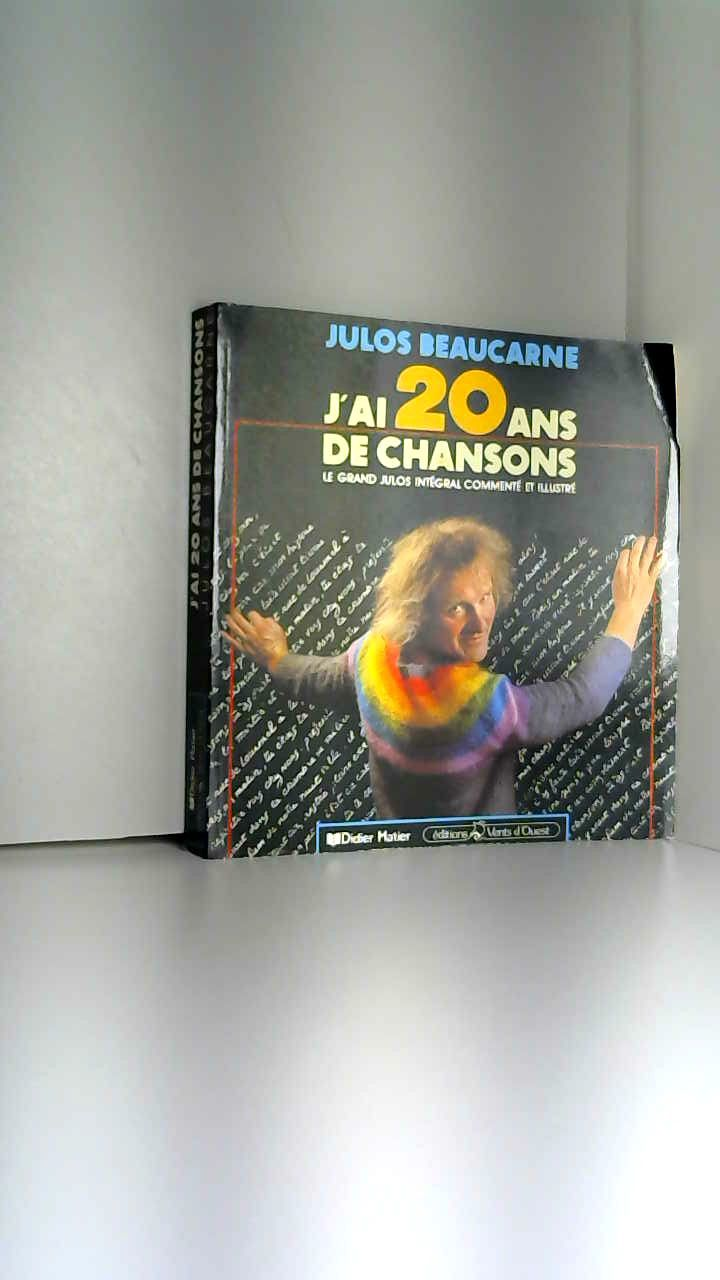book: (160, 270, 720, 876)
